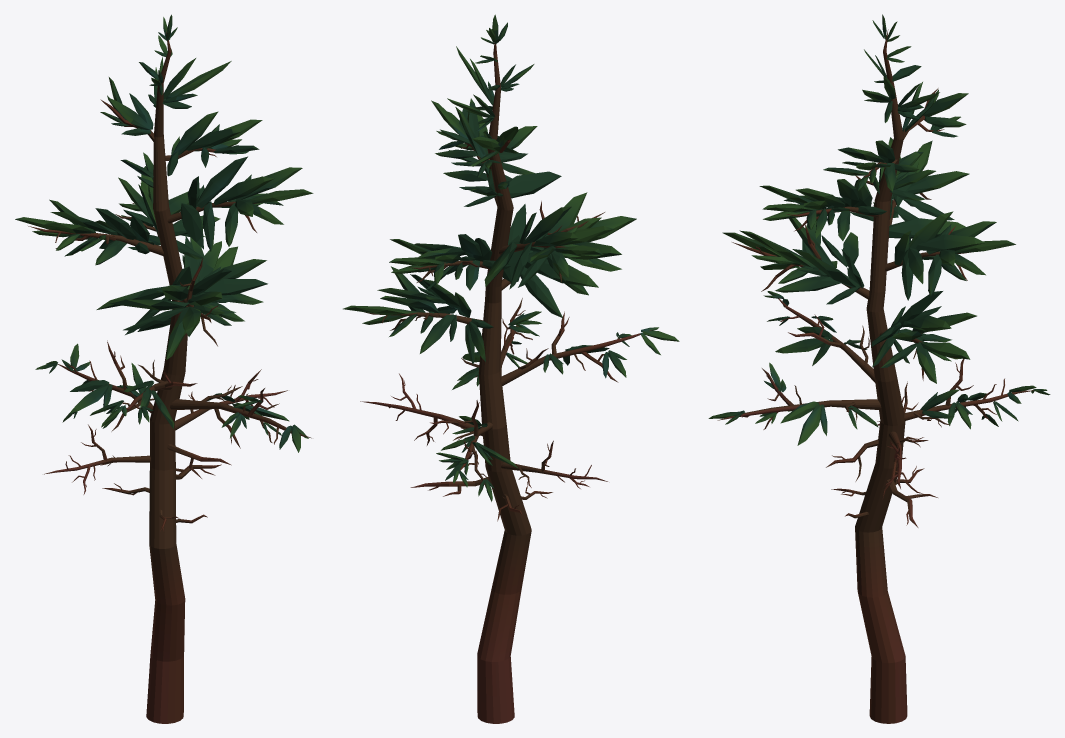
File: MS_Pine_Tree.fbx
The picture shows the model from 3 angles, left to right: view 1: azimuth 30°, elevation 25°; view 2: azimuth 150°, elevation 25°; view 3: azimuth 270°, elevation 25°; orthographic projection.
Visible parts, largest first — view 1: MS_Pine_Tree; view 2: MS_Pine_Tree; view 3: MS_Pine_Tree.
Boxes of the visible parts, box(x1,y1,x2,y2) form: MS_Pine_Tree: box(15, 14, 313, 723); MS_Pine_Tree: box(343, 14, 679, 723); MS_Pine_Tree: box(708, 14, 1050, 723).
Bounding box in the file's own units: 357 × 923 × 407.
